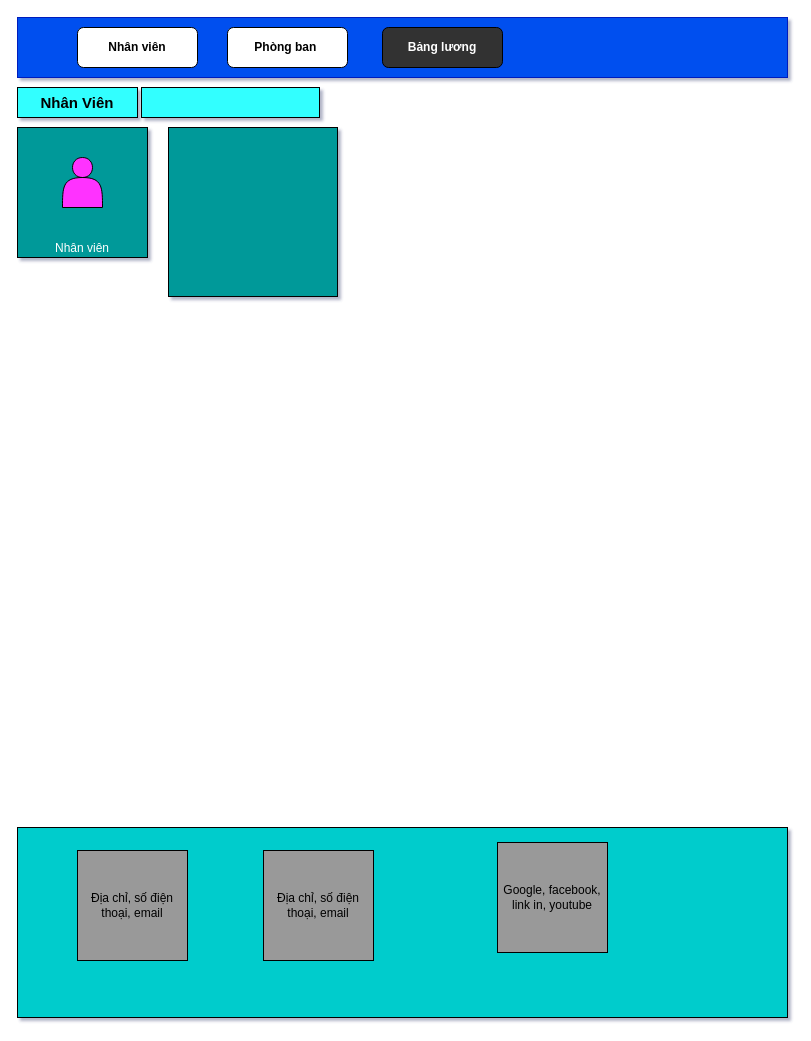
Image size: 811x1041. Some labels were removed from this diagram. Each missing label, with the box of its shape:
Họ tên: Ngày sinh: Ngày vào công ty: Số ngày nghỉ còn lại: Số ngày làm thêm:: (168, 126, 338, 296)
Nguyễn Văn A: (140, 86, 320, 118)
